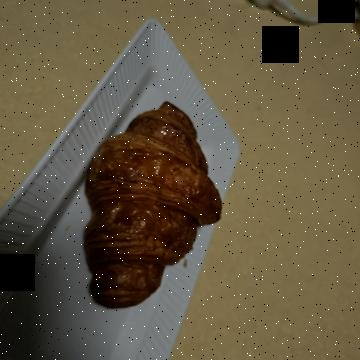croissant: (96, 128, 334, 292)
